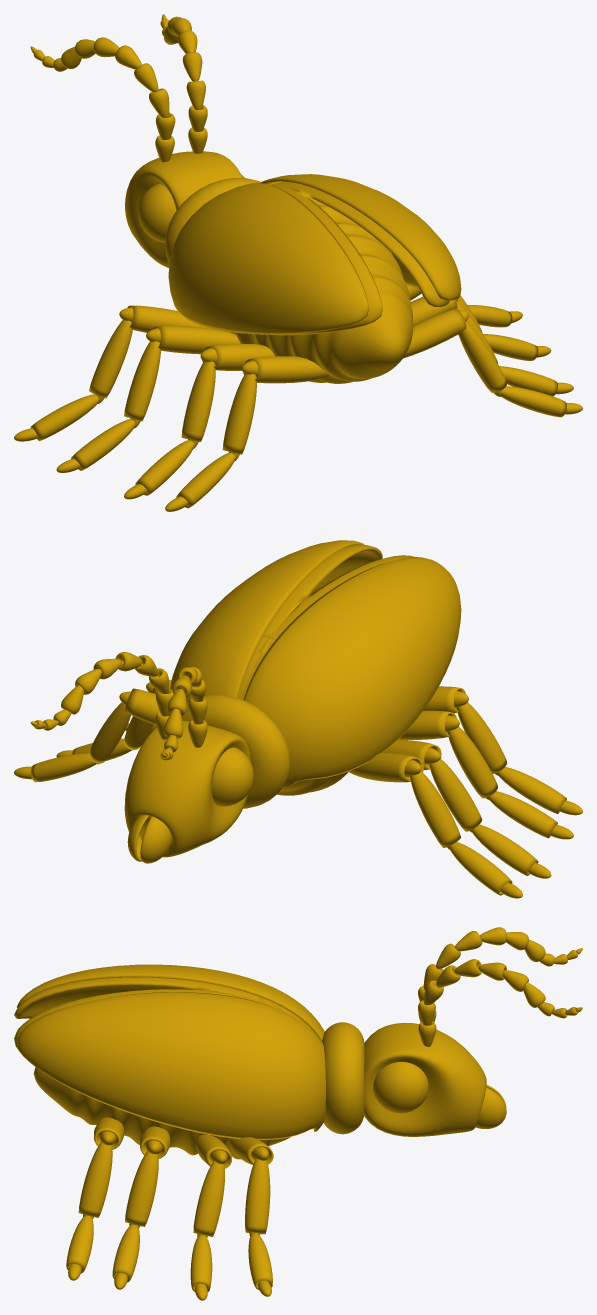
The model's file is bug.glb.
3 views of the same model, one above another, from view 1: azimuth 30°, elevation 25°; view 2: azimuth 150°, elevation 25°; view 3: azimuth 270°, elevation 25° (orthographic). The views are drawn at different scales.
Parts seen in each view (by area): view 1: Sphere.004; view 2: Sphere.004; view 3: Sphere.004.
Part boxes in pixels (x1,y1,x2,y2): Sphere.004: (14, 14, 582, 511); Sphere.004: (14, 540, 582, 898); Sphere.004: (14, 927, 582, 1300).
Size of the model in its own units: 8.19 by 4.13 by 8.63.
